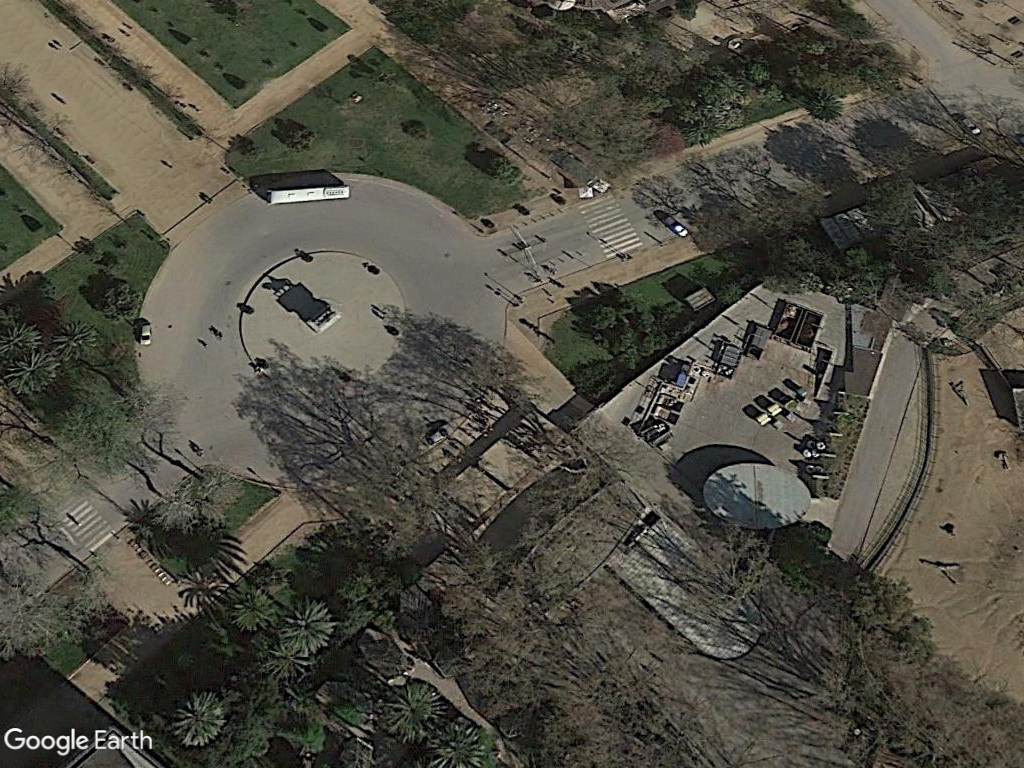bus: (264, 182, 352, 207)
van: (137, 320, 155, 349)
